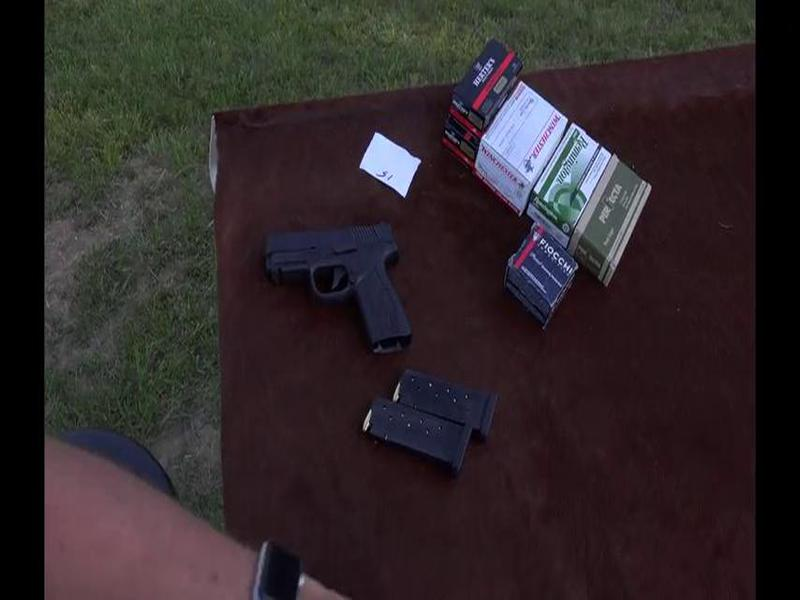Pistola: (248, 213, 437, 366)
